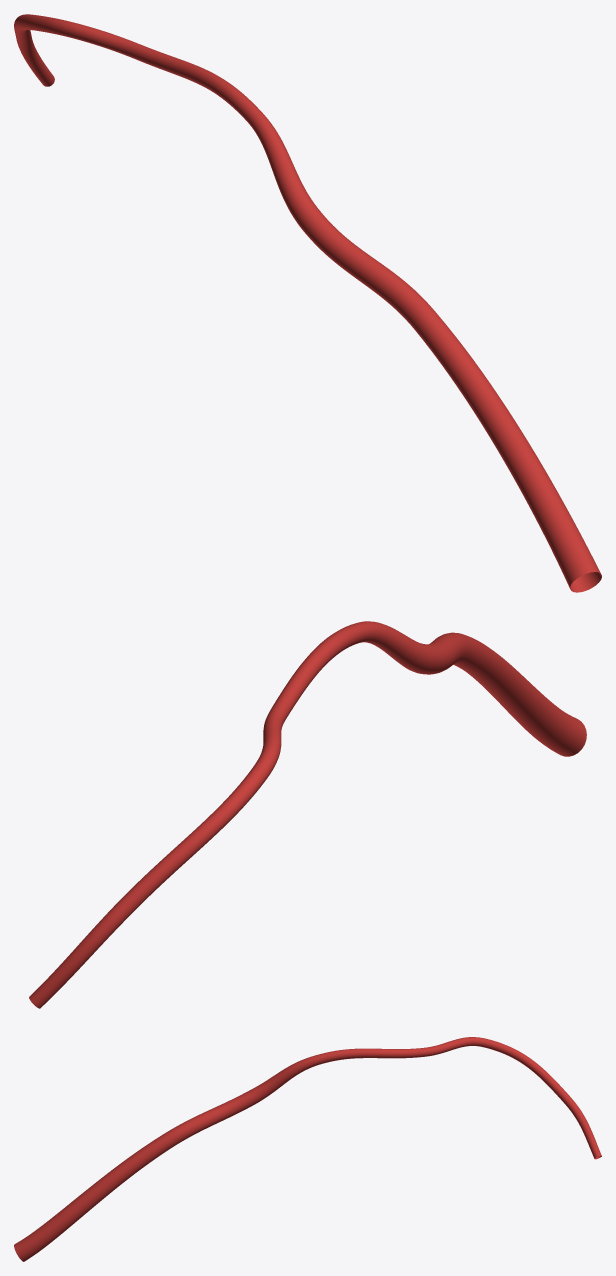
The picture shows the model from 3 angles, top to bottom: view 1: azimuth 30°, elevation 25°; view 2: azimuth 150°, elevation 25°; view 3: azimuth 270°, elevation 25°; orthographic projection. The views are drawn at different scales.
Visible parts, largest first — view 1: 右侧阴部内动脉; view 2: 右侧阴部内动脉; view 3: 右侧阴部内动脉.
Boxes of the visible parts, x1=… form: 右侧阴部内动脉: x1=14, y1=14, x2=601, y2=592; 右侧阴部内动脉: x1=29, y1=621, x2=586, y2=1008; 右侧阴部内动脉: x1=14, y1=1037, x2=601, y2=1261.
Bounding box in the file's own units: 0.0295 × 0.0585 × 0.165.
